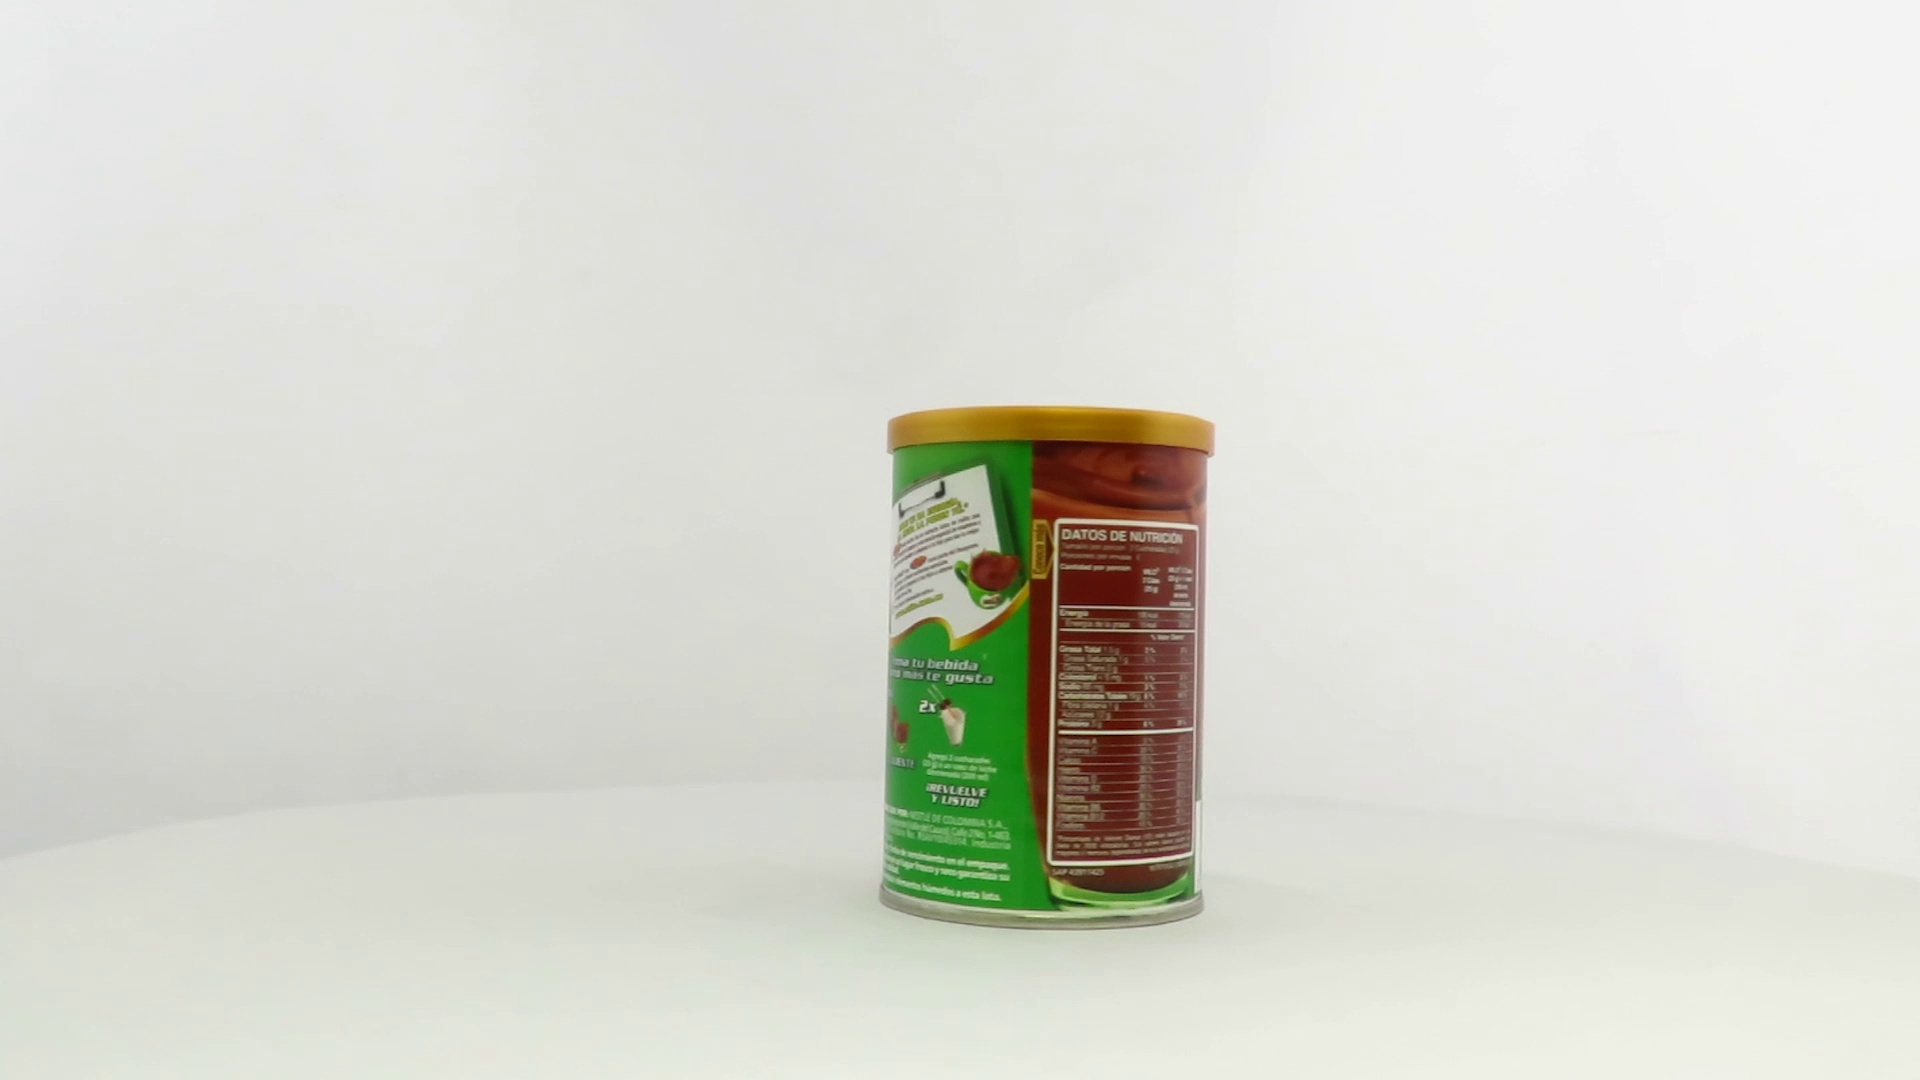COL0170203LAT20000: (873, 400, 1221, 938)
